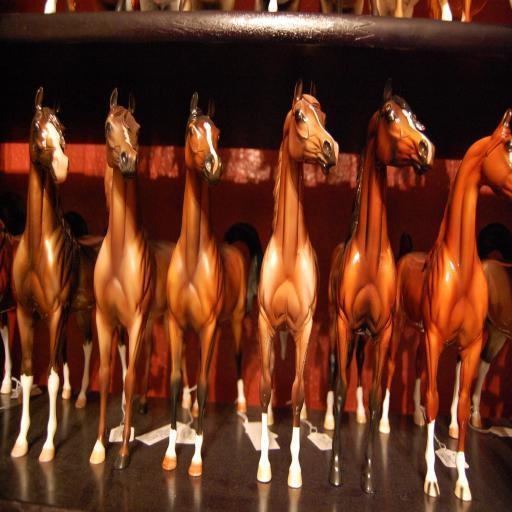horse: (378, 110, 511, 502), (329, 82, 438, 496), (160, 90, 256, 479), (253, 75, 340, 488), (10, 87, 94, 465), (92, 84, 166, 471)
